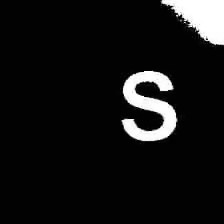LTR_S: (118, 67, 180, 144)
